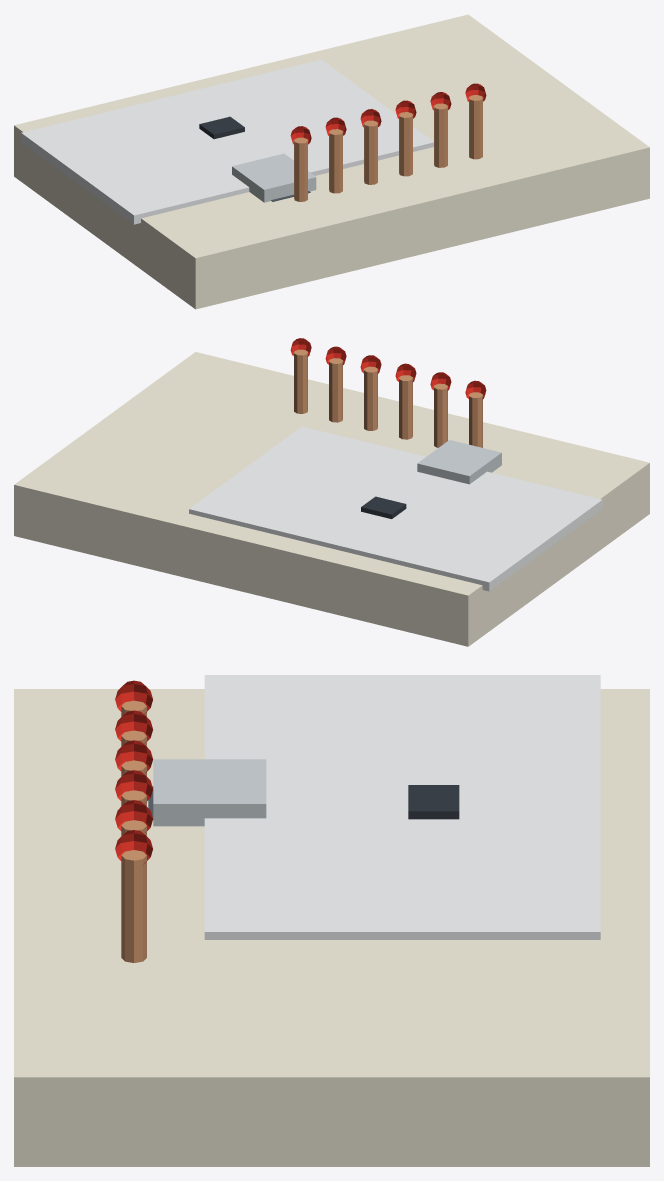
File: product-23.glb
3 views of the same model, one above another, from view 1: azimuth 30°, elevation 25°; view 2: azimuth 150°, elevation 25°; view 3: azimuth 270°, elevation 25° (orthographic). The views are drawn at different scales.
Visible parts, largest first — view 1: product-23; view 2: product-23; view 3: product-23.
Part boxes in pixels (x1,y1,x2,y2): product-23: [14, 14, 649, 309]; product-23: [14, 338, 649, 646]; product-23: [14, 675, 649, 1166].
Size of the model in its own units: 1.32 by 0.467 by 0.9.
